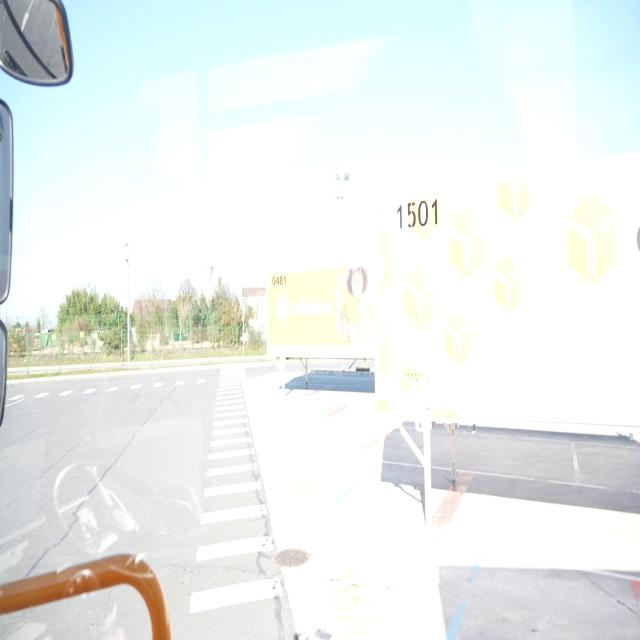Code: (392, 191, 441, 235), (271, 270, 290, 288)
